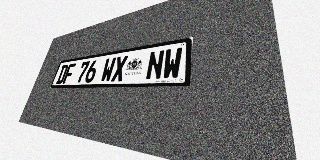6: (84, 60, 99, 83)
7: (75, 61, 90, 83)
D: (56, 64, 69, 84)
F: (62, 63, 76, 84)
N: (145, 50, 165, 80)
W: (162, 47, 183, 79), (100, 57, 116, 82)
X: (111, 55, 128, 82)
